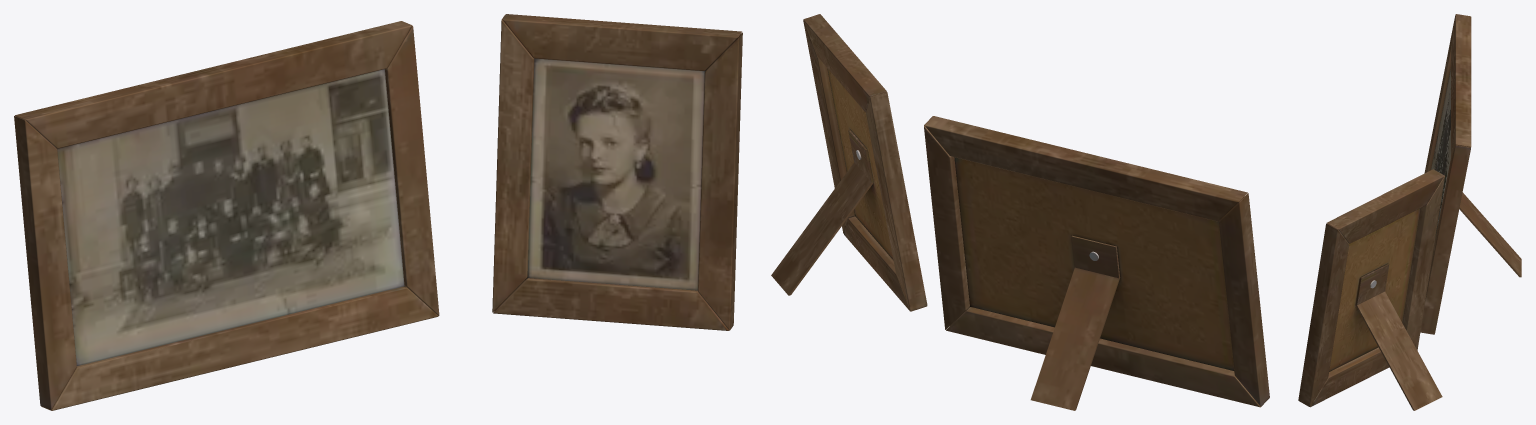
File: d_fotos_familia.glb
3 renders of one model, left to right at view 1: azimuth 30°, elevation 25°; view 2: azimuth 150°, elevation 25°; view 3: azimuth 270°, elevation 25°, orthographic. The views are drawn at different scales.
Visible parts, largest first — view 1: jg_07 - Default_0; view 2: jg_07 - Default_0; view 3: jg_07 - Default_0.
Part boxes in pixels (x1=…): jg_07 - Default_0: x1=14, y1=14, x2=742, y2=410; jg_07 - Default_0: x1=771, y1=14, x2=1269, y2=410; jg_07 - Default_0: x1=1298, y1=14, x2=1521, y2=410.
Bounding box in the file's own units: 0.5287 × 0.22 × 0.2338.
2 materials, 2 textured.
